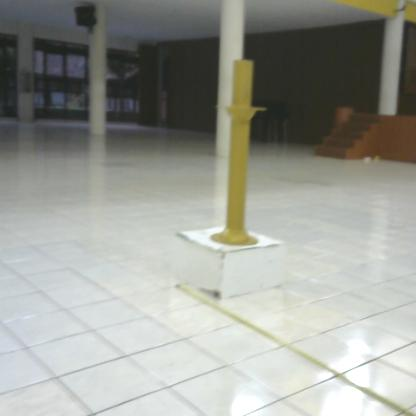pole: (207, 58, 276, 254)
